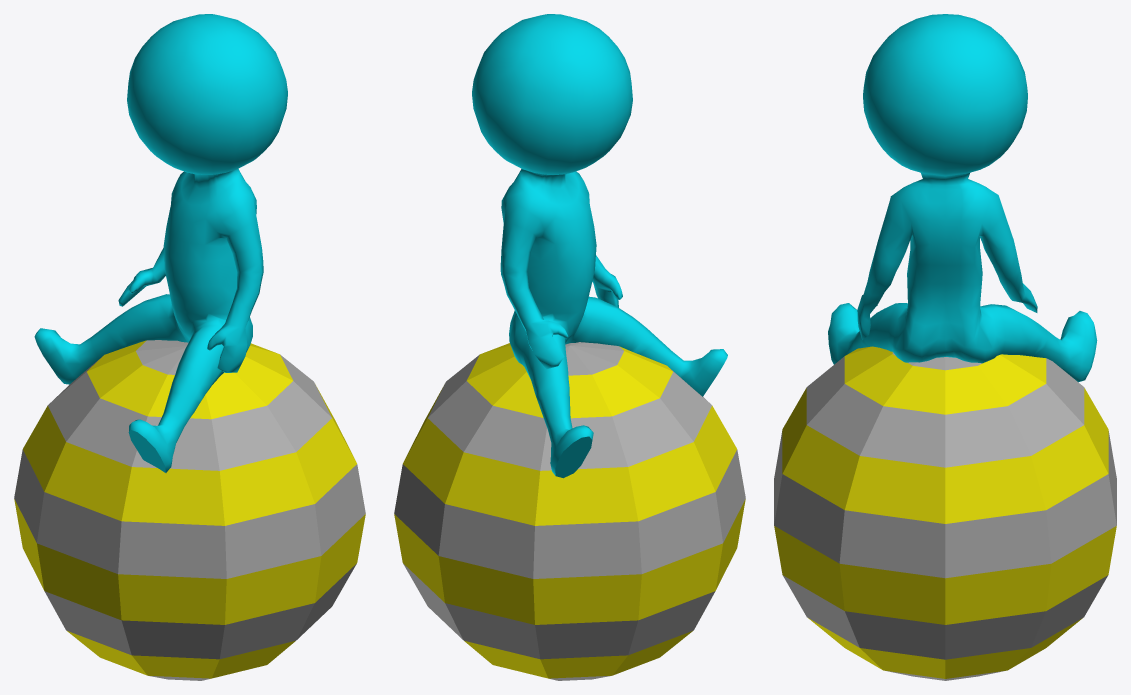
Rendered from ballon.fbx.
3 views of the same model, side by side, from view 1: azimuth 30°, elevation 25°; view 2: azimuth 150°, elevation 25°; view 3: azimuth 270°, elevation 25° (orthographic).
Visible parts, largest first — view 1: Stickman_heads_sphere2; view 2: Stickman_heads_sphere2; view 3: Stickman_heads_sphere2.
Part boxes in pixels (<box>): Stickman_heads_sphere2: <box>14,14,365,680</box>; Stickman_heads_sphere2: <box>394,14,745,680</box>; Stickman_heads_sphere2: <box>774,14,1116,680</box>.
Bounding box in the file's own units: 131 × 261 × 124.
